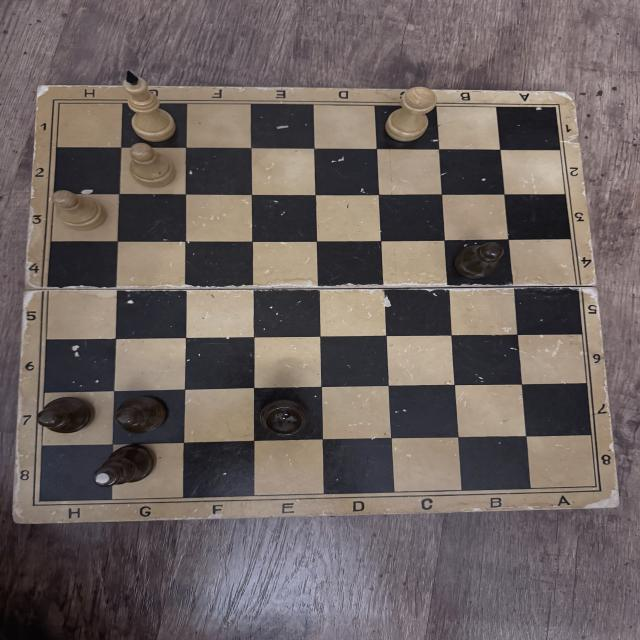black-king: (92, 444, 156, 488)
black-pawn: (451, 240, 507, 282), (113, 394, 169, 434), (37, 396, 94, 434)
black-rook: (256, 398, 315, 439)
white-king: (120, 67, 177, 143)
white-pawn: (51, 190, 109, 232), (126, 143, 177, 189)
white-rook: (382, 87, 438, 145)
